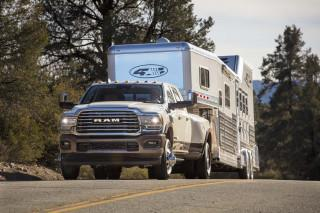ram: (90, 114, 126, 125)
